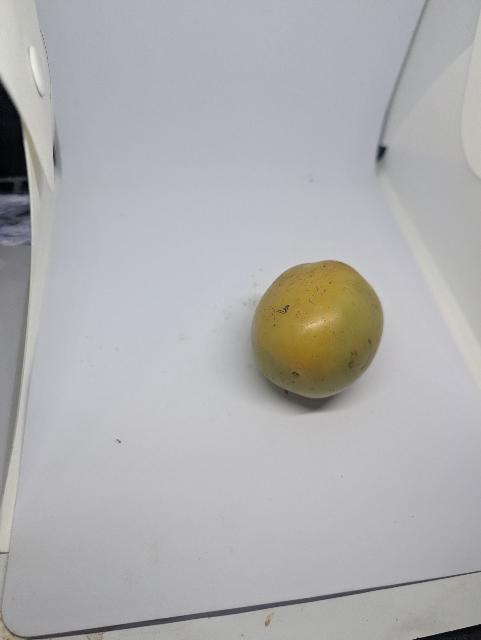breaker: (245, 257, 390, 404)
